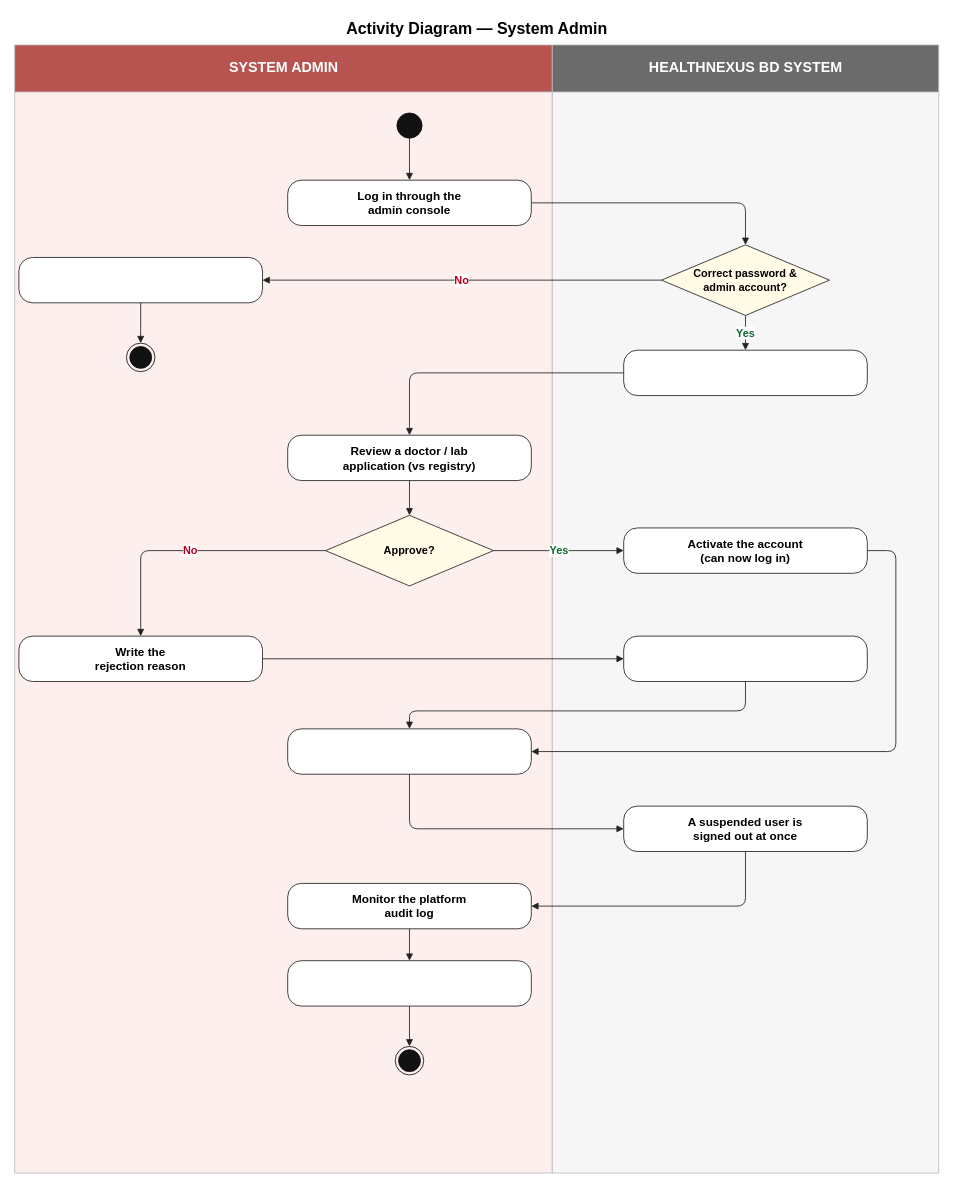
Image size: 953x1188. Some labels were removed from this diagram. Here are the shapes that lost their labels. From the top down, the centre of each, then its label:
At point (140, 280): "Access refused".
At point (745, 372): "Show statistics, trends & pending applications".
At point (745, 658): "Reject the application & sign it out".
At point (409, 751): "Suspend / reactivate users if needed".
At point (409, 983): "Log out".
